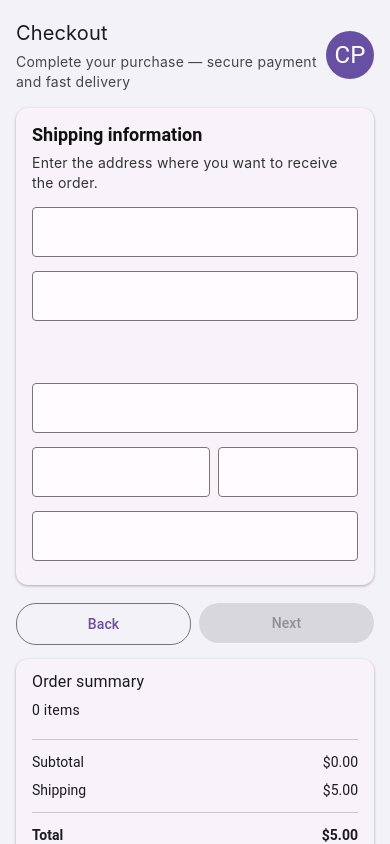
Checkout screen › Can navigate through steps with Next and Back
Step 1. Type "Jane" into the field named "Enter your full name" → (195, 233), box left=32, top=209, right=358, bottom=257
Step 2. Type "jane@example.com" into the field named "Email" → (195, 297), box left=32, top=273, right=358, bottom=321
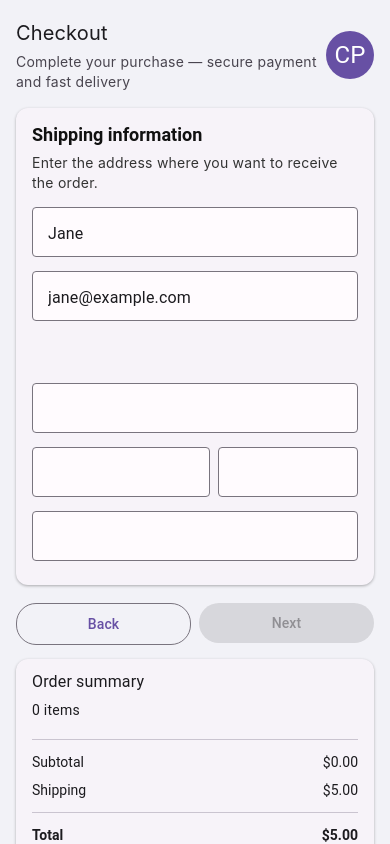
Step 3. Type "Rua B 2" into the field named "Enter your address" → (195, 409), box left=32, top=385, right=358, bottom=433
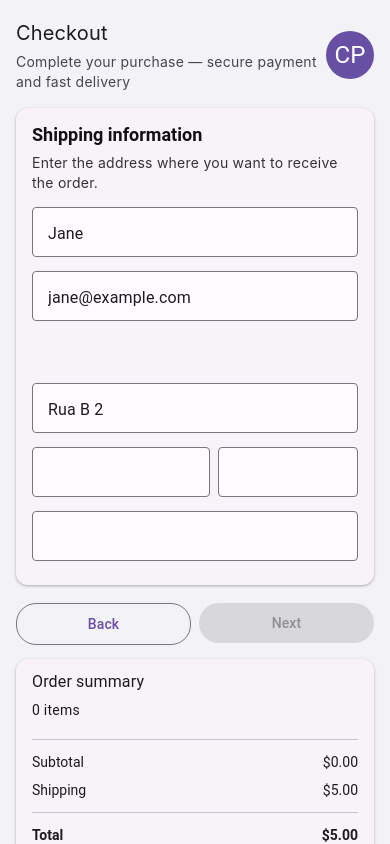
Step 4. Type "Coimbra" into the field named "Enter your city" → (121, 473), box left=32, top=449, right=210, bottom=497
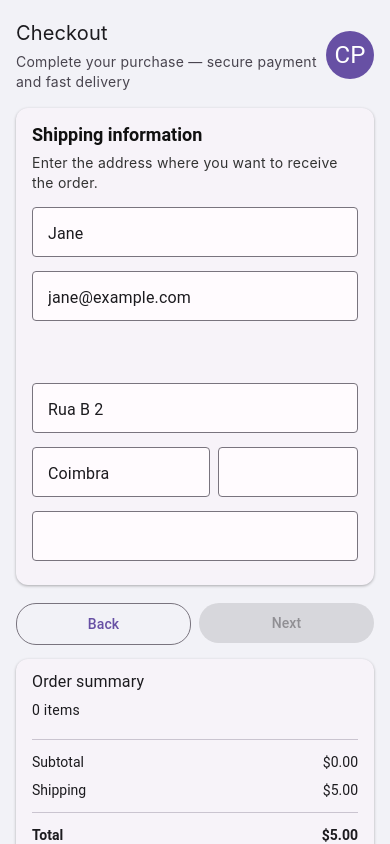
Step 5. Type "3000-001" into the field named "Enter your postal code" → (288, 473), box left=218, top=449, right=358, bottom=497
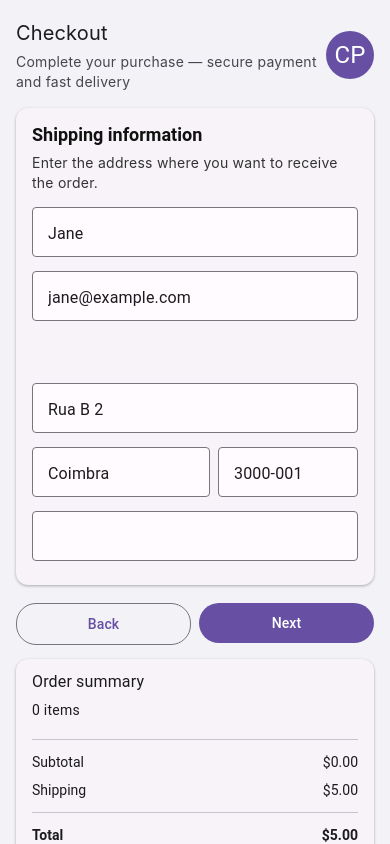
press Next to go to payment
Step 6. Click the button labelled "Next" → click(286, 623), box left=199, top=603, right=374, bottom=643
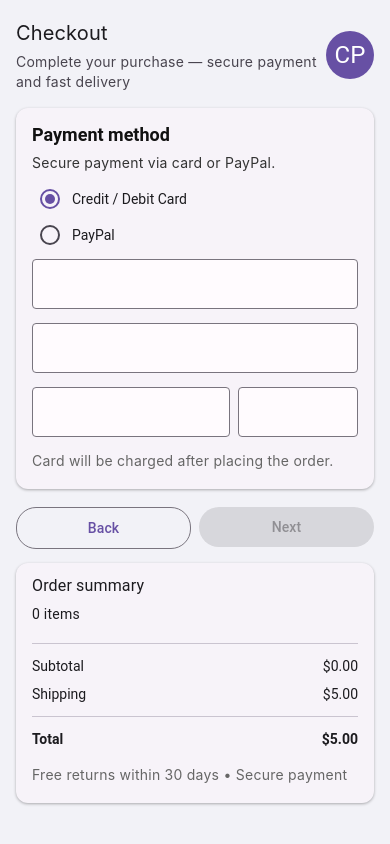
go back to shipping
Step 7. Click the button labelled "Back" → click(104, 528), box left=17, top=508, right=190, bottom=548
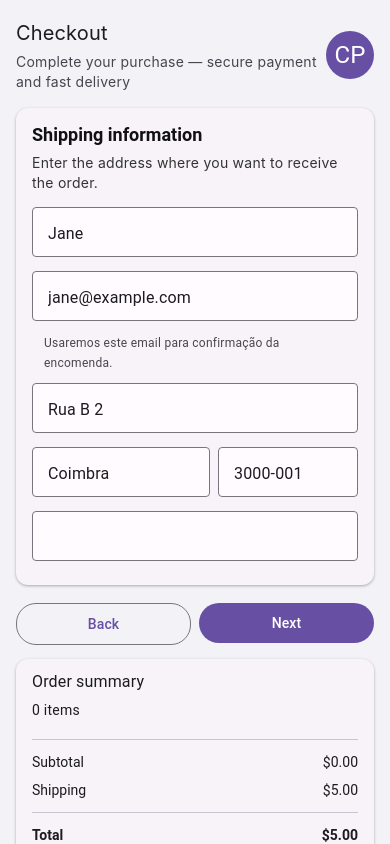
Expected: the field named "Enter your full name" is shown, left=32, top=209, right=358, bottom=257
